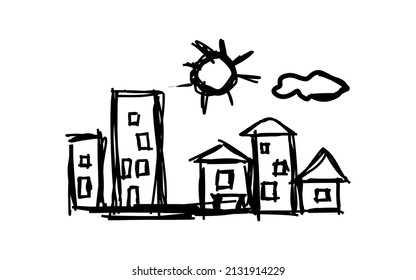building: (105, 83, 175, 206), (239, 115, 301, 209), (186, 136, 253, 210), (59, 129, 108, 208), (293, 145, 347, 214)
cloud: (269, 69, 353, 105)
sun: (173, 36, 261, 112)
